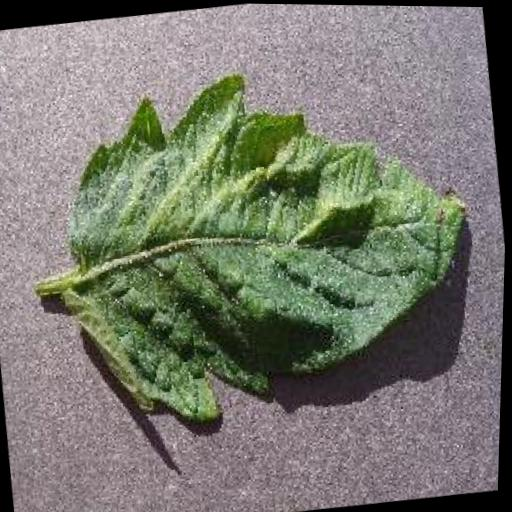Spider Mites: (36, 48, 493, 440)
